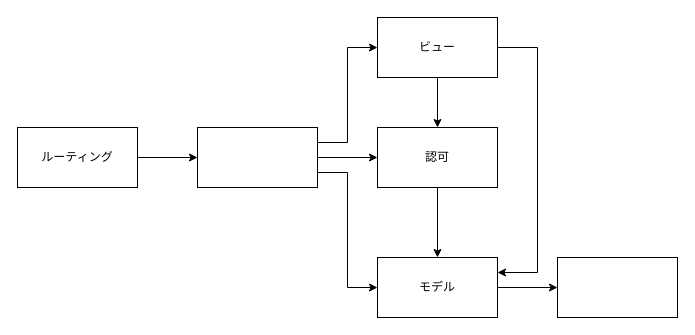
Some shapes in this 695 by 335 pixel diagram are drawn without their labels. Here are the shapes that lost their labels. From the top down, the box of each, then its label:
(196, 126, 318, 188): コントローラ
(556, 256, 678, 318): データベース
